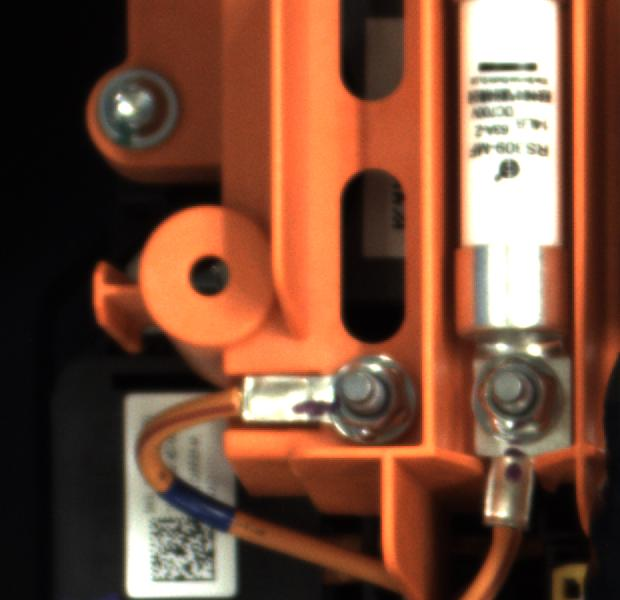screw_m: (84, 55, 199, 162)
